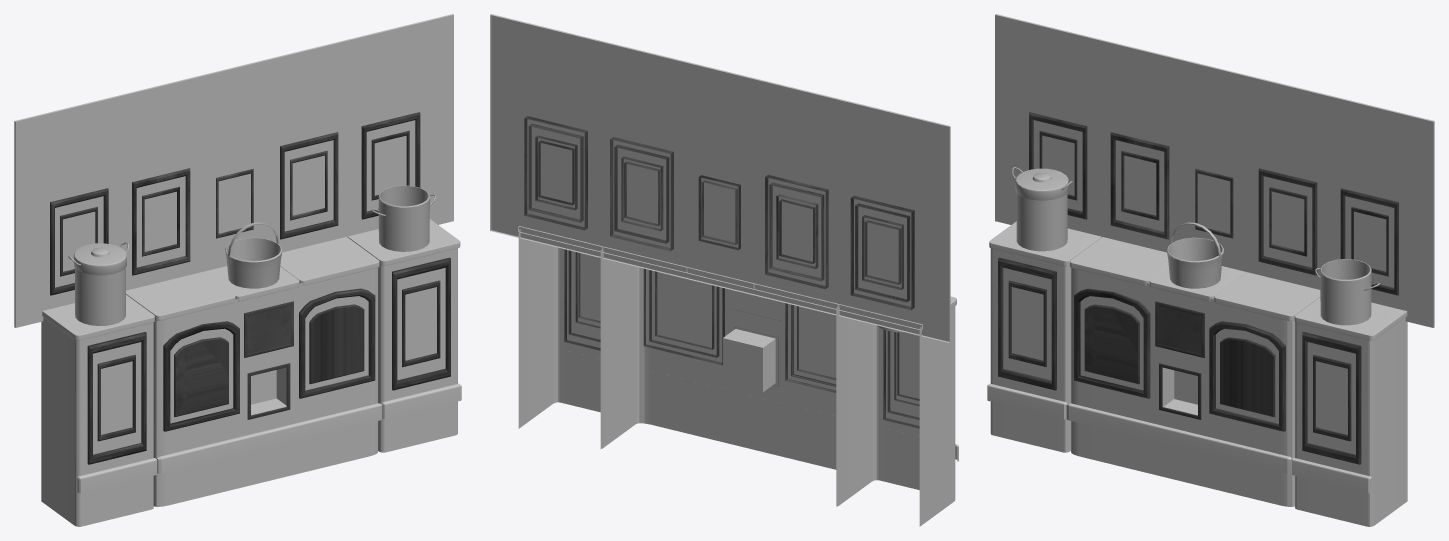
Rendered from cook.fbx.
3 renders of one model, left to right at view 1: azimuth 30°, elevation 25°; view 2: azimuth 150°, elevation 25°; view 3: azimuth 330°, elevation 25°, orthographic. The views are drawn at different scales.
Parts seen in each view (by area): view 1: cook_background, cook_background_small, pot_3, pot_1, pot_2; view 2: cook_background, cook_background_small; view 3: cook_background, cook_background_small, pot_3, pot_1, pot_2.
Boxes of the visible parts, x1,y1,x2,y2 form: cook_background: (14,14,461,526); cook_background_small: (50,112,450,464); pot_3: (68,242,128,325); pot_1: (371,185,436,251); pot_2: (225,222,282,288); cook_background: (490,14,958,526); cook_background_small: (524,116,919,428); cook_background: (987,14,1434,526); cook_background_small: (998,112,1398,464); pot_3: (1012,167,1072,251); pot_1: (1315,259,1379,325); pot_2: (1166,222,1223,288).
Bounding box in the file's own units: 222 × 188 × 34.56.
